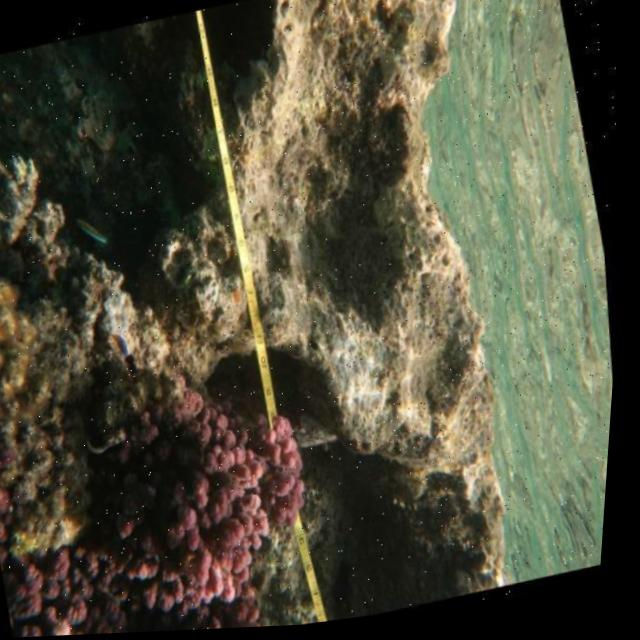Healthy Coral: (70, 363, 351, 636)
